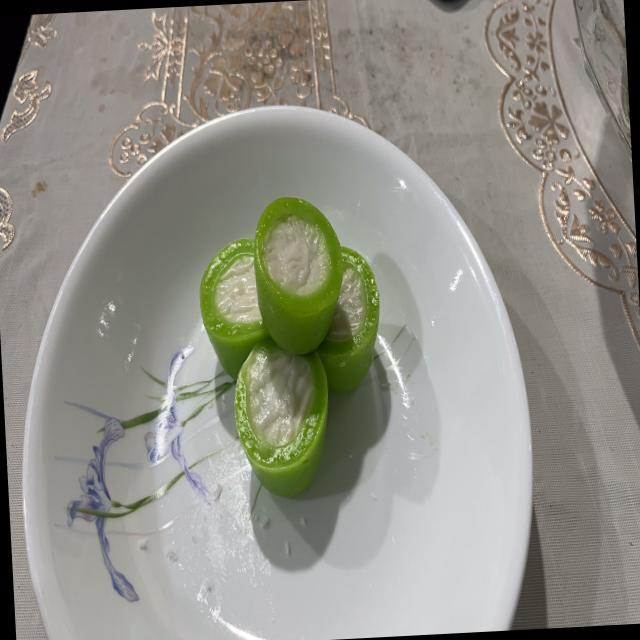nona-manis: (234, 338, 328, 498), (254, 197, 344, 355), (200, 239, 269, 378), (318, 247, 380, 393)
